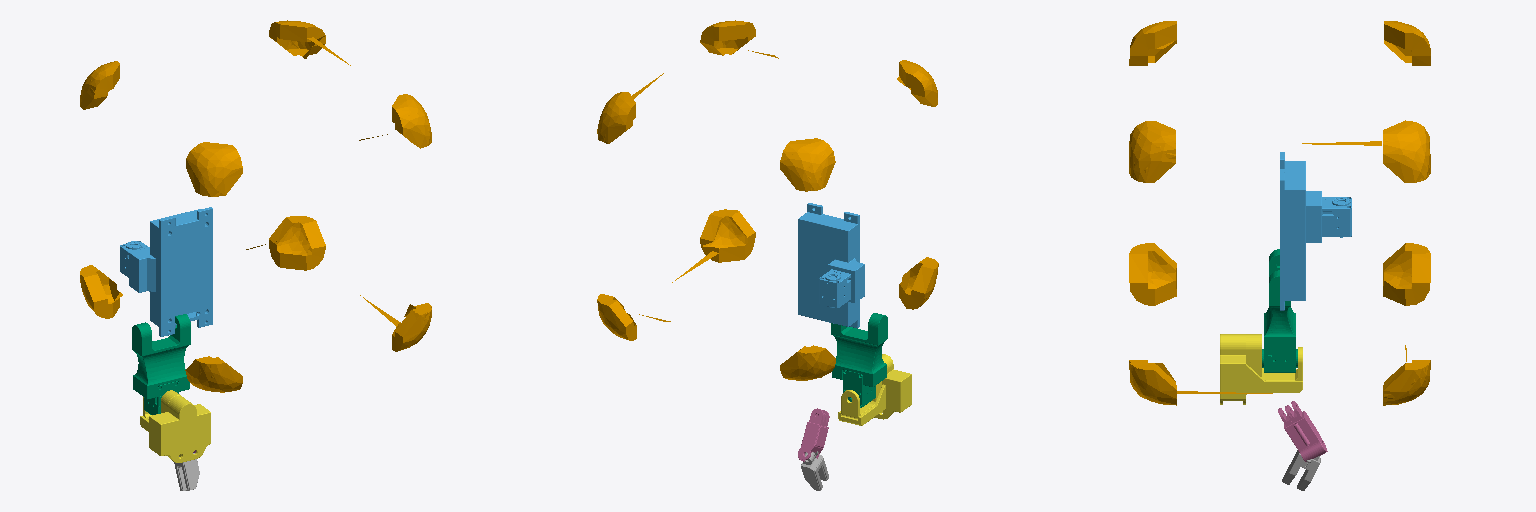
robot.urdf — astrobee:
<?xml version="1.0" ?>

<!-- This is a modified version of the original Astrobee URDF -->
<!-- This was generated via rosrun and xacro: see generate_astrobee_urdf.sh for more info -->
<!-- Changes include: -->
<!-- 1) Remove all references to gazebo -->
<!-- 2) Remove the KDL inertia workaround with the inertial link/joint -->
<!-- (^ This workaround is not needed for pybullet, and if left in, pybullet adds in a "default" inertia) -->

<robot name="astrobee">
  <!-- BASE GEOMETRY -->
  <link name="honey_body">
    <self_collide>false</self_collide>
    <!-- body -->
    <visual name="body_visual">
      <origin rpy="0 0 0" xyz="0 0 0"/>
      <geometry>
        <mesh filename="../meshes/astrobee/obj/body.obj"/>
      </geometry>
    </visual>
    <collision name="body_collision">
      <origin rpy="0 0 0" xyz="-0.000794 0.000229 -0.003907"/>
      <geometry>
        <box size="0.290513 0.151942 0.281129"/>
      </geometry>
    </collision>
    <inertial> 
      <mass value="9.0877"/>
      <origin xyz="0 0 0"/>
      <inertia ixx="0.1454" ixy="0.0" ixz="0.0" iyy="0.1366" iyz="0.0" izz="0.1594"/>
    </inertial>
    <!-- port pmc -->
    <visual name="pmc_port_visual">
      <origin rpy="0 0 0" xyz="0 0 0"/>
      <geometry>
        <mesh filename="../meshes/astrobee/obj/pmc.obj"/>
      </geometry>
    </visual>
    <visual name="pmc_port_bumper_visual">
      <origin rpy="0 0 0" xyz="0 0 0"/>
      <geometry>
        <mesh filename="../meshes/astrobee/obj/pmc_bumper.obj"/>
      </geometry>
    </visual>
    <visual name="pmc_port_skin_visual">
      <origin rpy="0 0 0" xyz="0 0 0"/>
      <geometry>
        <mesh filename="../meshes/astrobee/obj/pmc_skin_honey.obj"/>
      </geometry>
    </visual>
    <collision name="pmc_port_collision">
      <origin rpy="0 0 0" xyz="0 -0.117546 0"/>
      <geometry>
        <box size="0.319199 0.083962 0.319588"/>
      </geometry>
    </collision>
    <!-- starboard pmc -->
    <visual name="pmc_stbd_visual">
      <origin rpy="0 3.14 3.14" xyz="0 0 0"/>
      <geometry>
        <mesh filename="../meshes/astrobee/obj/pmc.obj"/>
      </geometry>
    </visual>
    <visual name="pmc_stbd_bumper_visual">
      <origin rpy="0 3.14 3.14" xyz="0 0 0"/>
      <geometry>
        <mesh filename="../meshes/astrobee/obj/pmc_bumper.obj"/>
      </geometry>
    </visual>
    <visual name="pmc_stbd_skin_visual">
      <origin rpy="0 3.14 3.14" xyz="0 0 0"/>
      <geometry>
        <mesh filename="../meshes/astrobee/obj/pmc_skin_honey.obj"/>
      </geometry>
    </visual>
    <collision name="pmc_stbd_collision">
      <origin rpy="0 0 0" xyz="0 0.117546 0"/>
      <geometry>
        <box size="0.319199 0.083962 0.319588"/>
      </geometry>
    </collision>
  </link>
  <link name="honey_top_aft">
    <self_collide>false</self_collide>
    <inertial>
      <origin rpy="0 0 0" xyz="0 0 0"/>
      <mass value="0.3078"/>
      <inertia ixx="0.02705" ixy="0.0" ixz="0.0" iyy="0.02705" iyz="0.0" izz="0.02705"/>
    </inertial>
    <visual>
      <origin rpy="0 0 0" xyz="0 0 0"/>
      <geometry>
        <mesh filename="../meshes/astrobee/obj/base_link.obj"/>
      </geometry>
    </visual>
    <collision>
      <origin rpy="0 0 0" xyz="0 -0.038125 0"/>
      <geometry>
        <box size="0.090441 0.152400 0.076250"/>
      </geometry>
    </collision>
  </link>
  <joint name="top_aft" type="fixed">
    <origin rpy="0.0 3.1415 0.0" xyz="-0.01 0.0 -0.065"/>
    <parent link="honey_body"/>
    <child link="honey_top_aft"/>
  </joint>
  <link name="honey_top_aft_arm_proximal_link">
    <self_collide>false</self_collide>
    <inertial>
      <origin rpy="0 0 0" xyz="0 0 0"/>
      <mass value="0.1623"/>
      <inertia ixx="0.02705" ixy="0.0" ixz="0.0" iyy="0.02705" iyz="0.0" izz="0.02705"/>
    </inertial>
    <visual>
      <origin rpy="0 0 0" xyz="0 0 0"/>
      <geometry>
        <mesh filename="../meshes/astrobee/obj/arm_proximal_link.obj"/>
      </geometry>
    </visual>
    <collision>
      <origin rpy="0 0 0" xyz="-0.049625 -0.0022 0"/>
      <geometry>
        <box size="0.123250 0.068000 0.042400"/>
      </geometry>
    </collision>
  </link>
  <joint name="top_aft_arm_proximal_joint" type="revolute">
    <origin rpy="0 1.57079632679 0" xyz="0.11945 0 0.065"/>
    <parent link="honey_top_aft"/>
    <child link="honey_top_aft_arm_proximal_link"/>
    <axis xyz="0 -1 0"/>
    <limit effort="1.0" lower="-2.0944" upper="1.57079" velocity="0.12"/>
  </joint>
  <link name="honey_top_aft_arm_distal_link">
    <self_collide>false</self_collide>
    <inertial>
      <origin rpy="0 0 0" xyz="0 0 0"/>
      <mass value="0.1033"/>
      <inertia ixx="0.002705" ixy="0.0" ixz="0.0" iyy="0.002705" iyz="0.0" izz="0.002705"/>
    </inertial>
    <visual>
      <origin rpy="0 0 0" xyz="0 0 0"/>
      <geometry>
        <mesh filename="../meshes/astrobee/obj/arm_distal_link.obj"/>
      </geometry>
    </visual>
    <collision>
      <origin rpy="0 0 0" xyz="0 0 -0.02"/>
      <geometry>
        <box size="0.075000 0.070000 0.087400"/>
      </geometry>
    </collision>
  </link>
  <joint name="top_aft_arm_distal_joint" type="revolute">
    <origin rpy="0 0 0" xyz="-0.1 0 0"/>
    <parent link="honey_top_aft_arm_proximal_link"/>
    <child link="honey_top_aft_arm_distal_link"/>
    <axis xyz="0 0 1"/>
    <limit effort="1.0" lower="-1.57079" upper="1.57079" velocity="0.12"/>
  </joint>
  <link name="honey_top_aft_gripper_left_proximal_link">
    <self_collide>false</self_collide>
    <inertial>
      <origin rpy="0 0 0" xyz="0 0 0"/>
      <mass value="0.04"/>
      <inertia ixx="0.002705" ixy="0.0" ixz="0.0" iyy="0.002705" iyz="0.0" izz="0.002705"/>
    </inertial>
    <visual>
      <origin rpy="0 0 0" xyz="0 0 0"/>
      <geometry>
        <mesh filename="../meshes/astrobee/obj/gripper_left_proximal_link.obj"/>
      </geometry>
    </visual>
    <collision>
      <origin rpy="0 0 0" xyz="-0.025547 0 -0.000875"/>
      <geometry>
        <box size="0.067654 0.021750 0.025400"/>
      </geometry>
    </collision>
  </link>
  <joint name="top_aft_gripper_left_proximal_joint" type="revolute">
    <origin rpy="0 0 0" xyz="-0.039 -0.010002 -0.0497"/>
    <parent link="honey_top_aft_arm_distal_link"/>
    <child link="honey_top_aft_gripper_left_proximal_link"/>
    <axis xyz="0 0 1"/>
    <limit effort="0.1" lower="0.349066" upper="0.698132" velocity="0.12"/>
  </joint>
  <link name="honey_top_aft_gripper_left_distal_link">
    <self_collide>false</self_collide>
    <inertial>
      <origin rpy="0 0 0" xyz="0 0 0"/>
      <mass value="0.0116026396896178"/>
      <inertia ixx="0.002705" ixy="0.0" ixz="0.0" iyy="0.002705" iyz="0.0" izz="0.002705"/>
    </inertial>
    <visual>
      <origin rpy="0 0 0" xyz="0 0 0"/>
      <geometry>
        <mesh filename="../meshes/astrobee/obj/gripper_left_distal_link.obj"/>
      </geometry>
    </visual>
    <collision>
      <origin rpy="0 0 0" xyz="-0.021524 0 -0.000875"/>
      <geometry>
        <box size="0.056953 0.021750 0.025400"/>
      </geometry>
    </collision>
  </link>
  <joint name="top_aft_gripper_left_distal_joint" type="revolute">
    <origin rpy="0 0 0" xyz="-0.05 0 0"/>
    <parent link="honey_top_aft_gripper_left_proximal_link"/>
    <child link="honey_top_aft_gripper_left_distal_link"/>
    <axis xyz="0 0 1"/>
    <limit effort="0.1" lower="-1.22173" upper="-0.69813" velocity="0.12"/>
  </joint>
  <link name="honey_top_aft_gripper_right_proximal_link">
    <self_collide>false</self_collide>
    <inertial>
      <origin rpy="0 0 0" xyz="0 0 0"/>
      <mass value="0.04"/>
      <inertia ixx="0.002705" ixy="0.0" ixz="0.0" iyy="0.002705" iyz="0.0" izz="0.002705"/>
    </inertial>
    <visual>
      <origin rpy="0 0 0" xyz="0 0 0"/>
      <geometry>
        <mesh filename="../meshes/astrobee/obj/gripper_right_proximal_link.obj"/>
      </geometry>
    </visual>
    <collision>
      <origin rpy="0 0 0" xyz="-0.025547 0 0.000875"/>
      <geometry>
        <box size="0.067654 0.021750 0.025400"/>
      </geometry>
    </collision>
  </link>
  <joint name="top_aft_gripper_right_proximal_joint" type="revolute">
    <origin rpy="0 0 0" xyz="-0.039 0.010002 -0.0497"/>
    <parent link="honey_top_aft_arm_distal_link"/>
    <child link="honey_top_aft_gripper_right_proximal_link"/>
    <axis xyz="0 0 1"/>
    <limit effort="0.1" lower="-0.698132" upper="-0.349066" velocity="0.12"/>
  </joint>
  <link name="honey_top_aft_gripper_right_distal_link">
    <self_collide>false</self_collide>
    <inertial>
      <origin rpy="0 0 0" xyz="0 0 0"/>
      <mass value="0.02285"/>
      <inertia ixx="0.002705" ixy="0.0" ixz="0.0" iyy="0.002705" iyz="0.0" izz="0.002705"/>
    </inertial>
    <visual>
      <origin rpy="0 0 0" xyz="0 0 0"/>
      <geometry>
        <mesh filename="../meshes/astrobee/obj/gripper_right_distal_link.obj"/>
      </geometry>
    </visual>
    <collision>
      <origin rpy="0 0 0" xyz="-0.021512 0 0.000875"/>
      <geometry>
        <box size="0.056894 0.021750 0.025400"/>
      </geometry>
    </collision>
  </link>
  <joint name="top_aft_gripper_right_distal_joint" type="revolute">
    <origin rpy="0 0 0" xyz="-0.05 0 0"/>
    <parent link="honey_top_aft_gripper_right_proximal_link"/>
    <child link="honey_top_aft_gripper_right_distal_link"/>
    <axis xyz="0 0 1"/>
    <limit effort="0.1" lower="0.69813" upper="1.22173" velocity="0.12"/>
  </joint>
</robot>

--- Render facts (derived) ---
Views: 3 orthographic renders of the robot side by side, from view 1: azimuth 30°, elevation 25°; view 2: azimuth 150°, elevation 25°; view 3: azimuth 270°, elevation 25°.
Model astrobee with 8 links and 7 joints (6 revolute, 1 fixed), rooted at honey_body, posed joints at zero except 4 at the middle of their limits (top_aft_gripper_left_proximal_joint = 0.5236, top_aft_gripper_left_distal_joint = -0.9599, top_aft_gripper_right_proximal_joint = -0.5236, top_aft_gripper_right_distal_joint = 0.9599).
Links seen in each view (by area): view 1: honey_body, honey_top_aft, honey_top_aft_arm_proximal_link, honey_top_aft_arm_distal_link, honey_top_aft_gripper_right_distal_link; view 2: honey_body, honey_top_aft, honey_top_aft_arm_proximal_link, honey_top_aft_arm_distal_link, honey_top_aft_gripper_right_proximal_link, honey_top_aft_gripper_right_distal_link; view 3: honey_body, honey_top_aft, honey_top_aft_arm_distal_link, honey_top_aft_arm_proximal_link, honey_top_aft_gripper_right_proximal_link, honey_top_aft_gripper_right_distal_link.
Link boxes in pixels (x1,y1,x2,y2): honey_body: (80, 20, 431, 392); honey_top_aft: (120, 207, 212, 336); honey_top_aft_arm_proximal_link: (132, 314, 190, 414); honey_top_aft_arm_distal_link: (140, 390, 210, 462); honey_top_aft_gripper_right_distal_link: (174, 453, 199, 490); honey_body: (597, 20, 938, 380); honey_top_aft: (798, 203, 864, 328); honey_top_aft_arm_proximal_link: (831, 313, 887, 407); honey_top_aft_arm_distal_link: (838, 354, 911, 425); honey_top_aft_gripper_right_proximal_link: (798, 408, 829, 461); honey_top_aft_gripper_right_distal_link: (801, 451, 828, 490); honey_body: (1129, 21, 1430, 405); honey_top_aft: (1280, 152, 1351, 310); honey_top_aft_arm_distal_link: (1220, 334, 1302, 404); honey_top_aft_arm_proximal_link: (1262, 249, 1297, 372); honey_top_aft_gripper_right_proximal_link: (1278, 401, 1327, 461); honey_top_aft_gripper_right_distal_link: (1282, 450, 1320, 490).
Size in the robot's own frame: 0.3269 by 0.3196 by 0.5225 metres.
7 mesh visuals loaded from 11 distinct referenced files (6 OBJ); not drawn: 7 (reference not matched to a file when rendering).